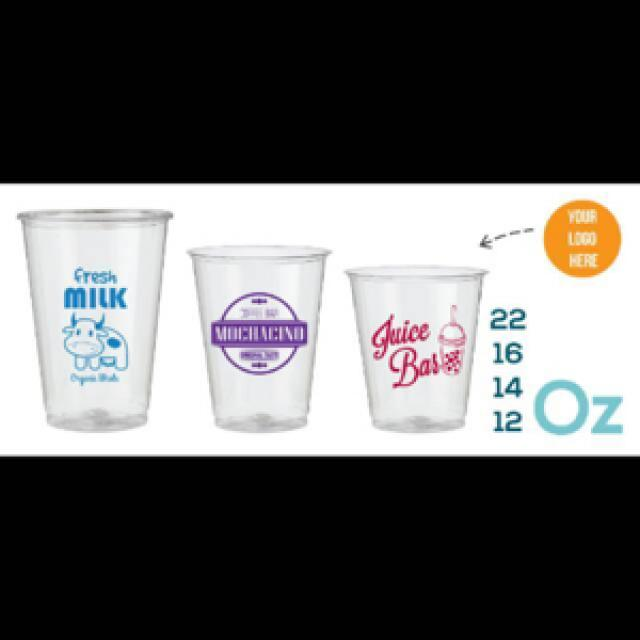plastic cup: (15, 204, 181, 442), (181, 239, 335, 439), (341, 252, 493, 446)
